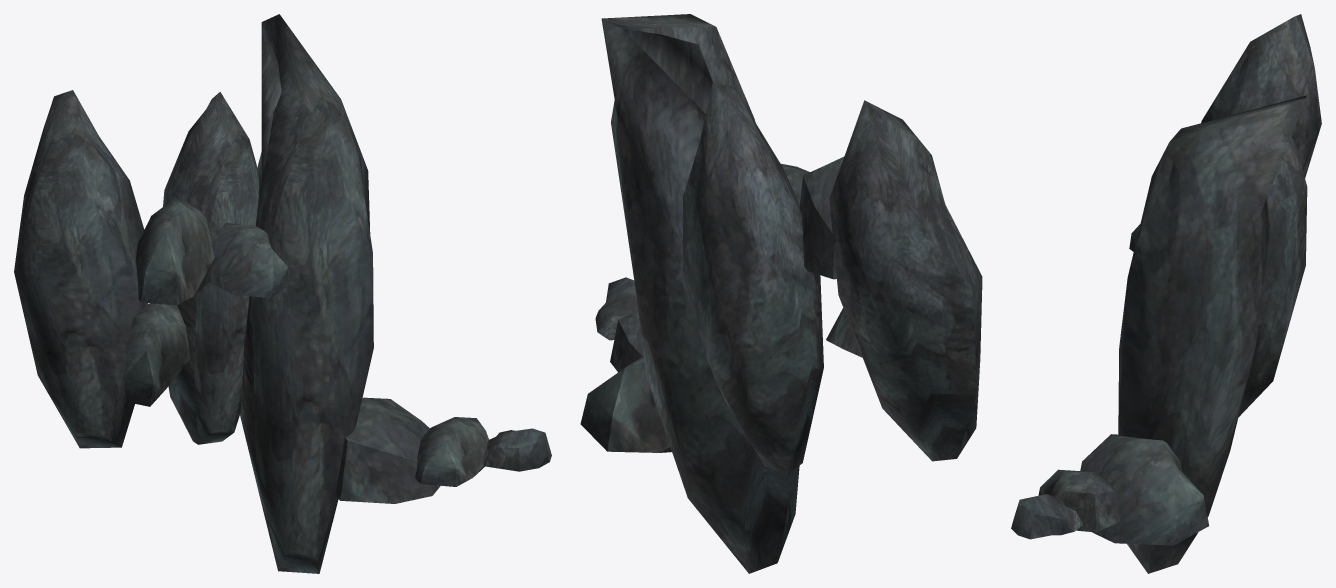
The model's file is object_rubble09.fbx.
3 renders of one model, left to right at view 1: azimuth 30°, elevation 25°; view 2: azimuth 150°, elevation 25°; view 3: azimuth 270°, elevation 25°, orthographic. The views are drawn at different scales.
Parts seen in each view (by area): view 1: object_rubble09-0; view 2: object_rubble09-0; view 3: object_rubble09-0.
Boxes of the visible parts, left/top/right/bottom form: object_rubble09-0: left=14, top=14, right=551, bottom=573; object_rubble09-0: left=580, top=14, right=982, bottom=573; object_rubble09-0: left=1011, top=14, right=1321, bottom=573.
Size of the model in its own units: 11.03 by 12.33 by 7.05.
